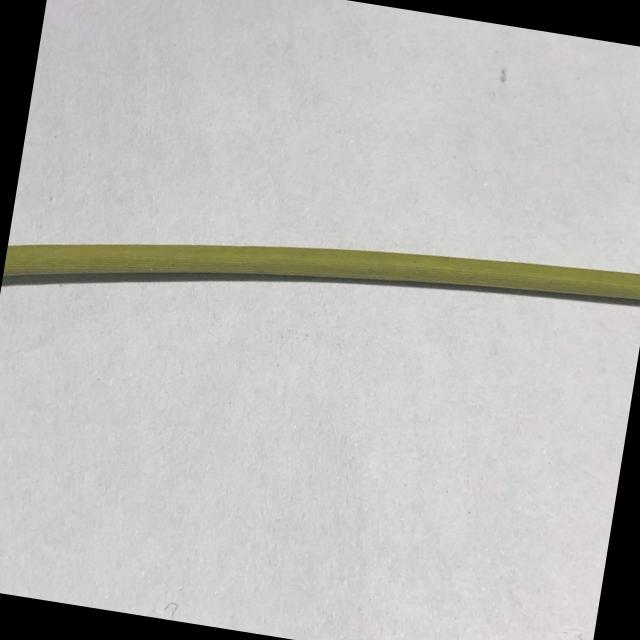Rice_Healthy: (3, 245, 640, 302)
